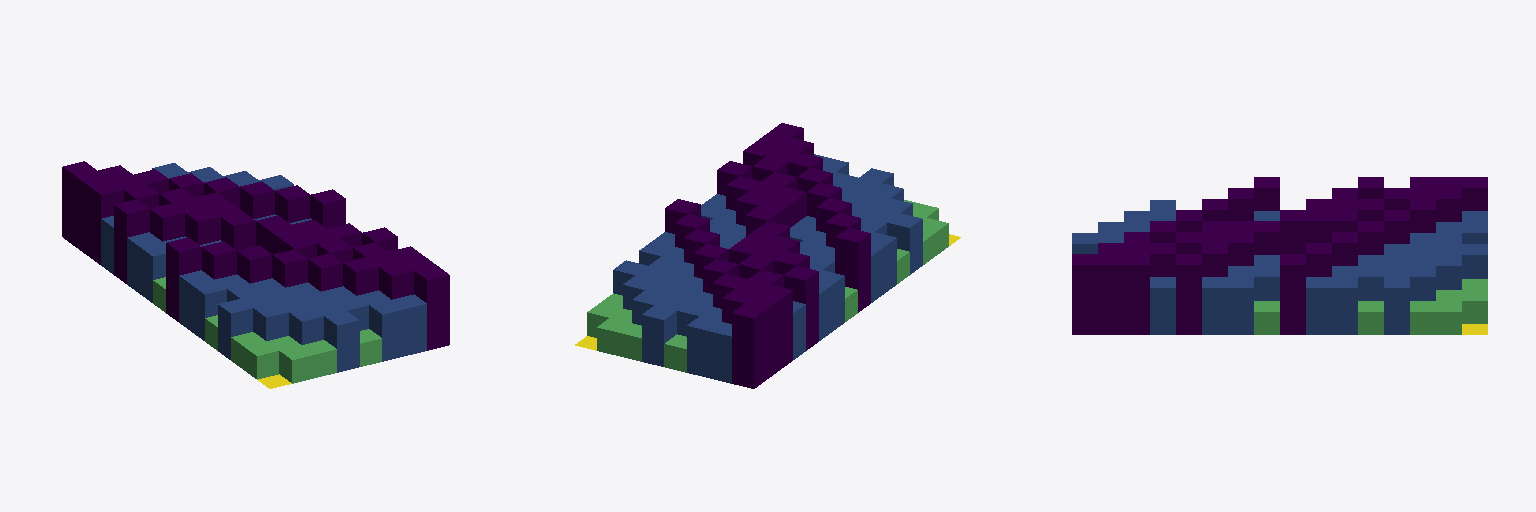
The picture shows the model from 3 angles: view 1: azimuth 30°, elevation 25°; view 2: azimuth 150°, elevation 25°; view 3: azimuth 270°, elevation 25°; orthographic projection.
Visible parts, largest first — view 1: Object(8,16)[length_3], Object(1,5)[length_3], Object(1,9)[length_3], Object(4,16)[length_2], Object(6,16)[length_2], Object(1,3)[length_3], Object(1,13)[length_2], Object(7,16)[length_2], Object(1,11)[length_2], Object(1,1)[length_3], Object(1,2)[length_3], Object(1,7)[length_2] (+28 smaller); view 2: Object(1,1)[length_3], Object(1,9)[length_3], Object(5,1)[length_2], Object(1,5)[length_3], Object(1,13)[length_2], Object(3,1)[length_2], Object(2,1)[length_2], Object(1,2)[length_3], Object(1,3)[length_3], Object(1,7)[length_2], Object(1,11)[length_2], Object(7,1)[length_1] (+28 smaller); view 3: Object(8,8)[length_3], Object(8,12)[length_3], Object(8,14)[length_3], Object(8,15)[length_3], Object(8,16)[length_3], Object(8,4)[length_2], Object(8,6)[length_2], Object(8,7)[length_2], Object(8,10)[length_2], Object(8,11)[length_2], Object(8,13)[length_2], Object(4,8)[length_3] (+28 smaller).
Boxes of the visible parts, x1,y1,x2,y2 form: Object(8,16)[length_3]: [414, 265, 449, 350]; Object(1,5)[length_3]: [114, 199, 149, 283]; Object(1,9)[length_3]: [166, 237, 201, 321]; Object(4,16)[length_2]: [324, 311, 359, 372]; Object(6,16)[length_2]: [369, 300, 404, 361]; Object(1,3)[length_3]: [88, 180, 123, 264]; Object(1,13)[length_2]: [218, 299, 252, 359]; Object(7,16)[length_2]: [393, 294, 426, 355]; Object(1,11)[length_2]: [192, 280, 226, 340]; Object(1,1)[length_3]: [62, 161, 96, 245]; Object(1,2)[length_3]: [75, 171, 109, 255]; Object(1,7)[length_2]: [140, 242, 165, 302]; Object(1,1)[length_3]: [732, 304, 766, 388]; Object(1,9)[length_3]: [835, 228, 870, 312]; Object(5,1)[length_2]: [642, 305, 676, 366]; Object(1,5)[length_3]: [784, 266, 818, 350]; Object(1,13)[length_2]: [887, 213, 922, 274]; Object(3,1)[length_2]: [687, 316, 720, 377]; Object(2,1)[length_2]: [709, 322, 731, 383]; Object(1,2)[length_3]: [745, 294, 779, 378]; Object(1,3)[length_3]: [759, 285, 792, 369]; Object(1,7)[length_2]: [819, 270, 844, 331]; Object(1,11)[length_2]: [871, 232, 896, 293]; Object(7,1)[length_1]: [597, 318, 631, 355]; Object(8,8)[length_3]: [1280, 254, 1305, 334]; Object(8,12)[length_3]: [1176, 254, 1201, 334]; Object(8,14)[length_3]: [1124, 254, 1149, 334]; Object(8,15)[length_3]: [1098, 254, 1123, 334]; Object(8,16)[length_3]: [1072, 254, 1097, 334]; Object(8,4)[length_2]: [1384, 277, 1409, 334]; Object(8,6)[length_2]: [1332, 277, 1357, 334]; Object(8,7)[length_2]: [1306, 277, 1331, 334]; Object(8,10)[length_2]: [1228, 277, 1253, 334]; Object(8,11)[length_2]: [1202, 277, 1227, 334]; Object(8,13)[length_2]: [1150, 277, 1175, 334]; Object(4,8)[length_3]: [1280, 210, 1305, 253].
Bounding box in the file's own units: 8 × 3 × 16.